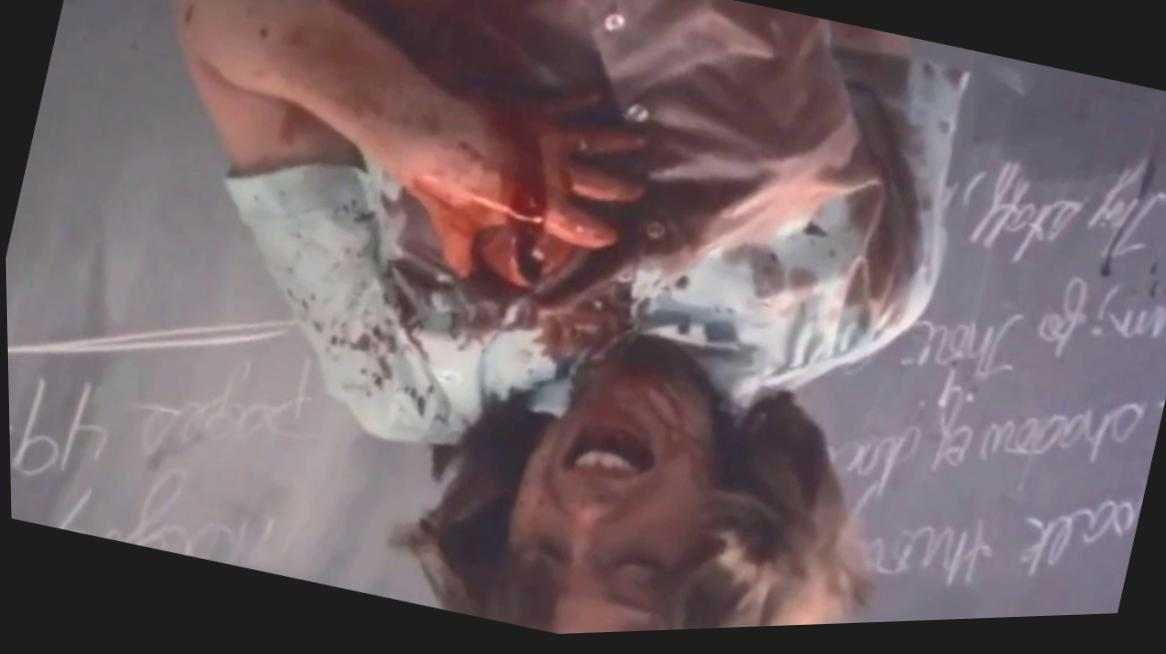Fire: (173, 0, 969, 551), (1094, 158, 1162, 312)
